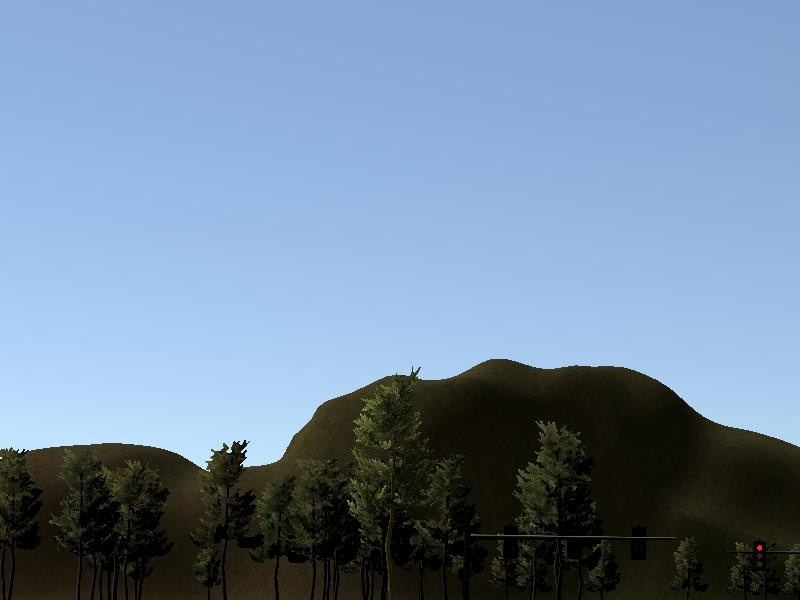RED: (744, 538, 777, 587)
